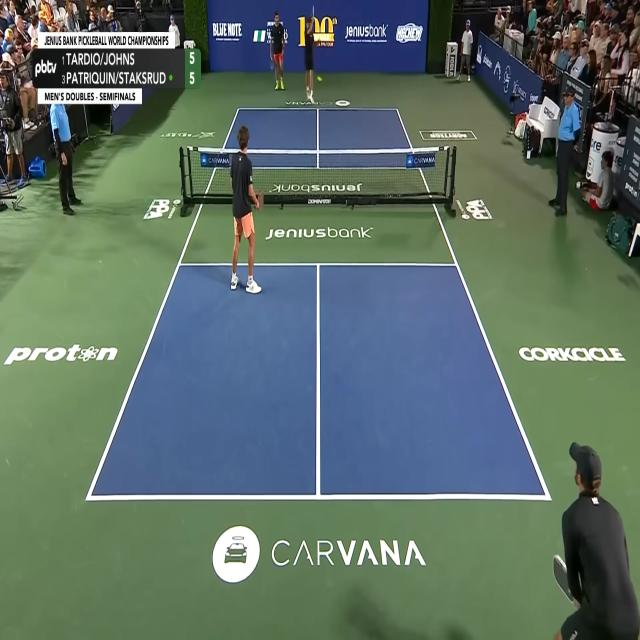ball: (317, 76, 322, 82)
